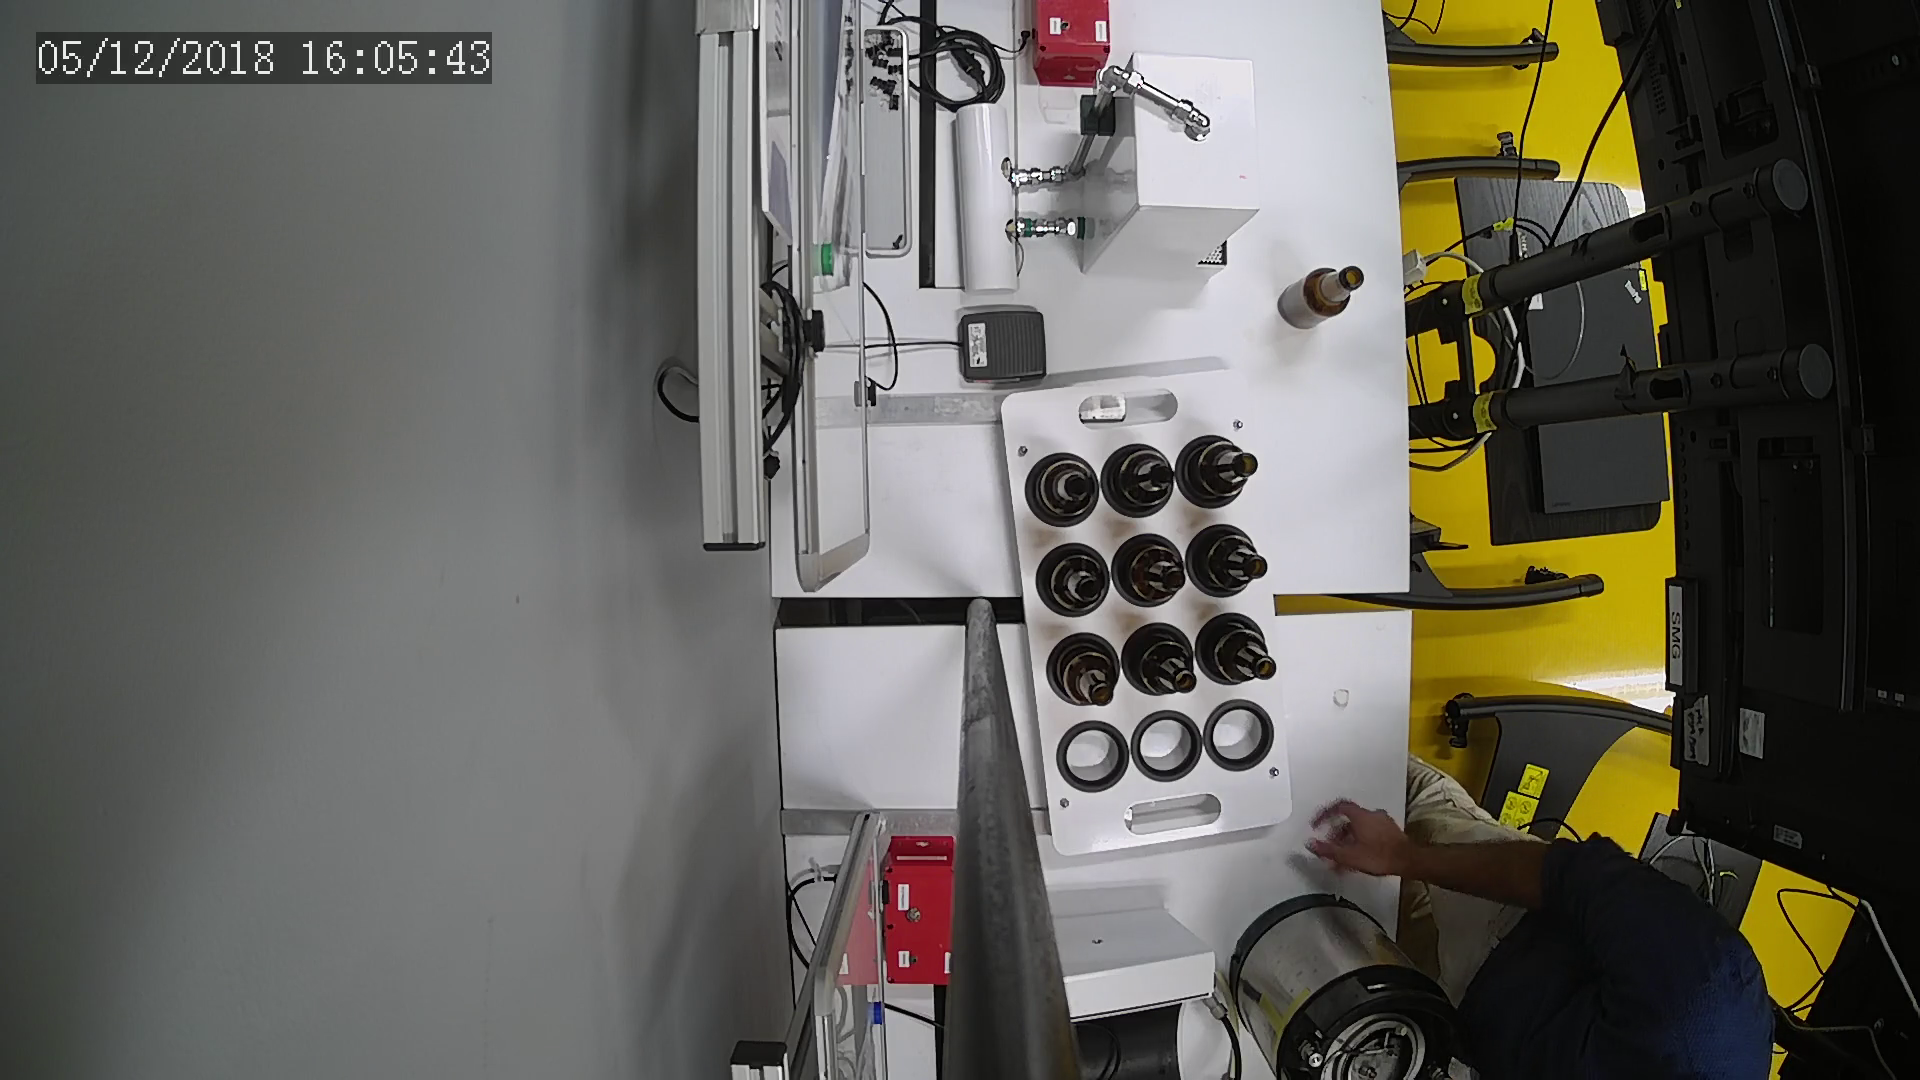filled_bottle: (1183, 522, 1278, 613), (1176, 430, 1276, 512), (1120, 615, 1204, 709), (1026, 541, 1112, 630), (1104, 527, 1189, 615), (1039, 622, 1120, 713), (1101, 436, 1179, 530), (1026, 447, 1104, 535), (1197, 613, 1278, 695)
trolley: (986, 367, 1303, 861)
unfilled_bottle: (1269, 261, 1370, 334)
